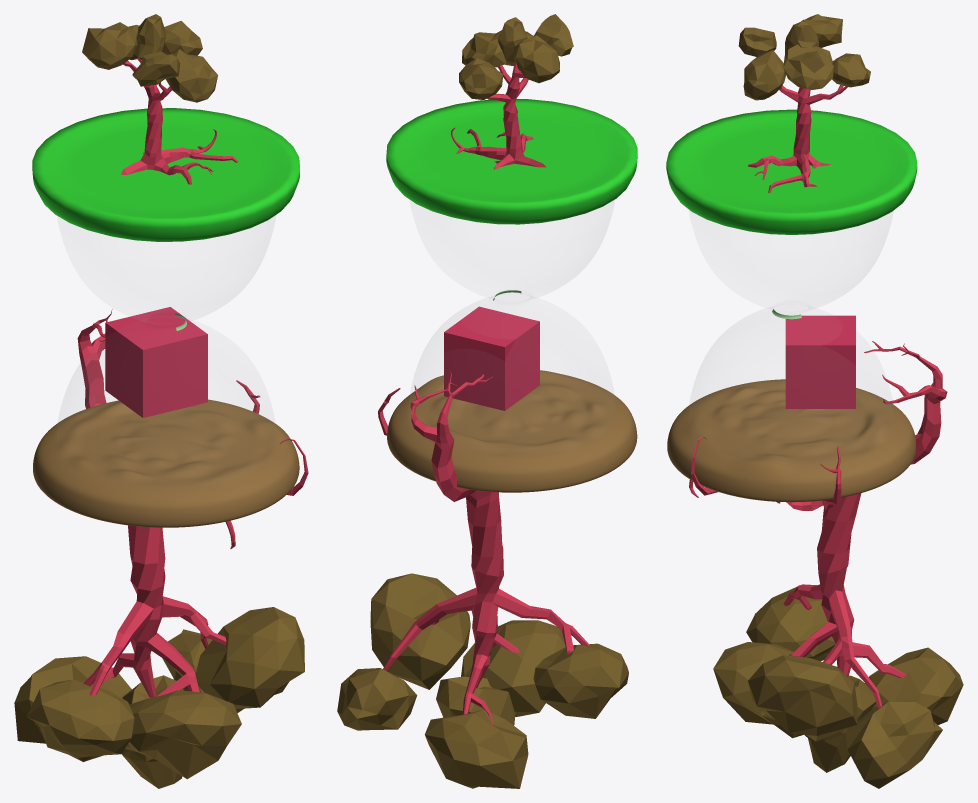
File: hourglass_5.fbx
The picture shows the model from 3 angles, left to right: view 1: azimuth 30°, elevation 25°; view 2: azimuth 150°, elevation 25°; view 3: azimuth 270°, elevation 25°; orthographic projection. The views are drawn at different scales.
Parts seen in each view (by area): view 1: top of hourglass, bottom of hourglass, top tree, Cube, leaves 5, leaves 3, leaves, leaves 1, top tree.001, leaves 1.001, leaves 5.001, leaves 2 (+4 smaller); view 2: bottom of hourglass, top of hourglass, top tree, Cube, leaves 5, leaves 1, leaves, leaves 3, leaves 4, top tree.001, leaves 2, leaves 1.001 (+4 smaller); view 3: bottom of hourglass, top of hourglass, top tree, leaves 5, Cube, leaves 4, leaves 1, leaves, leaves 3, top tree.001, leaves 3.001, leaves 2 (+5 smaller).
Part boxes in pixels (box(x1,y1,x2,y2)): top of hourglass: box(33, 399, 299, 527); bottom of hourglass: box(32, 108, 299, 241); top tree: box(77, 309, 308, 697); Cube: box(105, 307, 207, 417); leaves 5: box(195, 607, 304, 712); leaves 3: box(125, 690, 241, 779); leaves: box(26, 679, 134, 757); leaves 1: box(14, 656, 131, 761); top tree.001: box(121, 58, 238, 184); leaves 1.001: box(82, 22, 137, 69); leaves 5.001: box(165, 49, 217, 102); leaves 2: box(122, 675, 183, 788); bottom of hourglass: box(386, 99, 637, 224); top of hourglass: box(387, 370, 637, 492); top tree: box(378, 370, 589, 724); Cube: box(444, 306, 539, 410); leaves 5: box(370, 573, 470, 689); leaves 1: box(424, 709, 528, 788); leaves: box(533, 643, 628, 718); leaves 3: box(461, 620, 565, 716); leaves 4: box(337, 668, 417, 730); top tree.001: box(451, 62, 546, 169); leaves 2: box(436, 676, 515, 725); leaves 1.001: box(513, 35, 559, 83); bottom of hourglass: box(666, 109, 917, 234); top of hourglass: box(667, 379, 915, 502); top tree: box(689, 341, 947, 708); leaves 5: box(748, 655, 857, 741); Cube: box(785, 315, 855, 408); leaves 4: box(845, 702, 942, 788); leaves 1: box(865, 647, 963, 724); leaves: box(746, 587, 835, 661); leaves 3: box(713, 642, 807, 738); top tree.001: box(748, 85, 847, 192); leaves 3.001: box(783, 44, 833, 89); leaves 2: box(804, 675, 876, 772).
Bounding box in the file's own units: 269 × 757 × 279.
